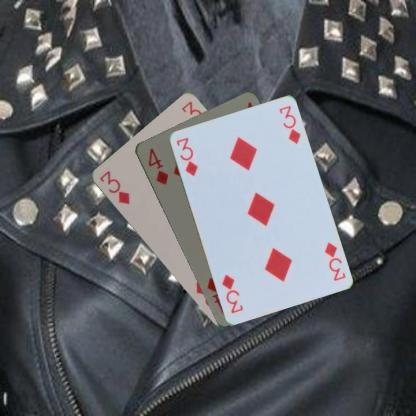3d: (96, 168, 130, 206), (173, 134, 199, 178), (321, 239, 347, 282)
4d: (145, 145, 169, 187)
